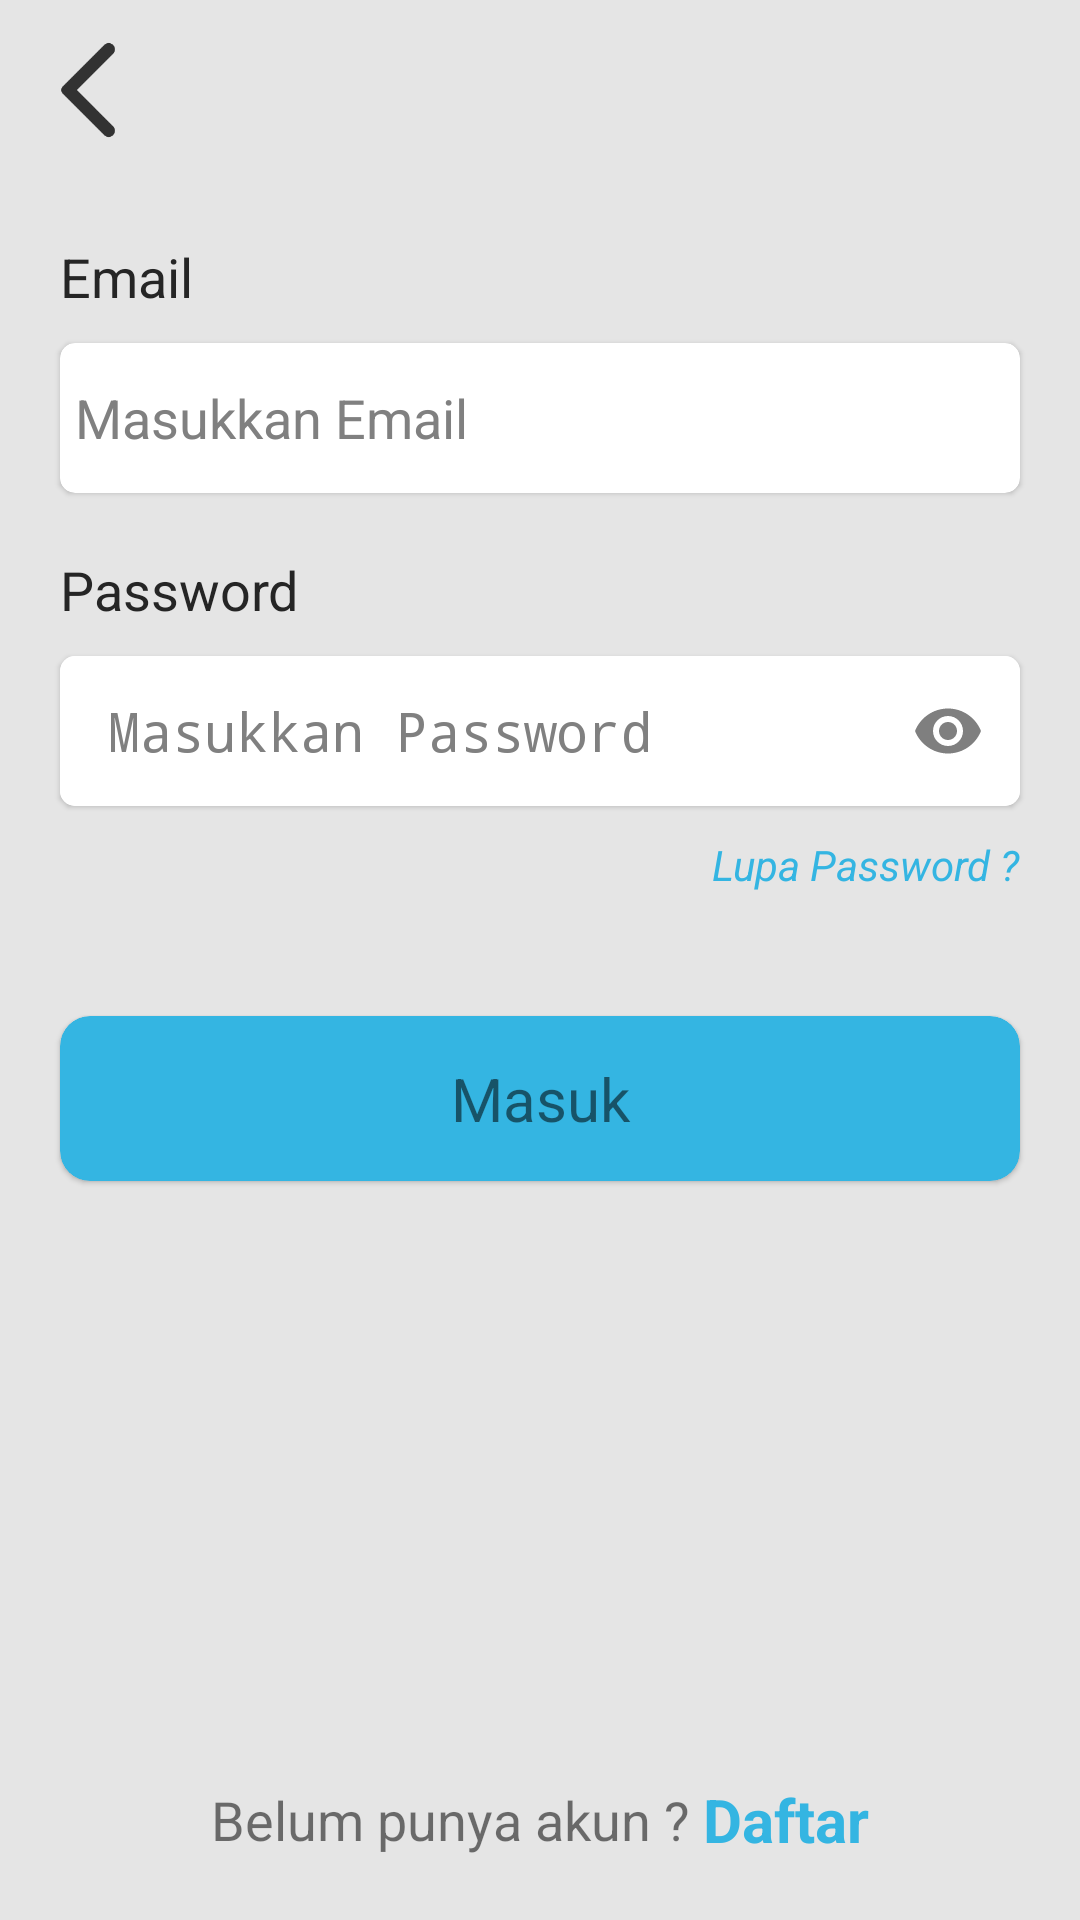

Icon bounding boxes for this 1080x1920 phone screenshot, format detection(x1, y1, x2, y2):
back: detection(61, 43, 115, 137)
